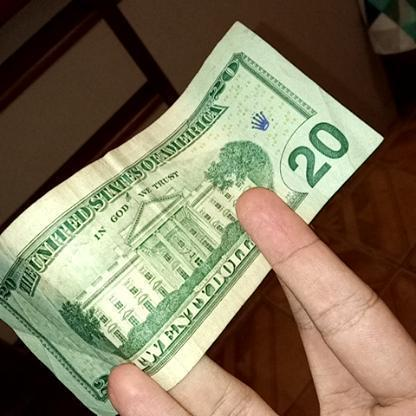twenty-back: (0, 36, 393, 416)
